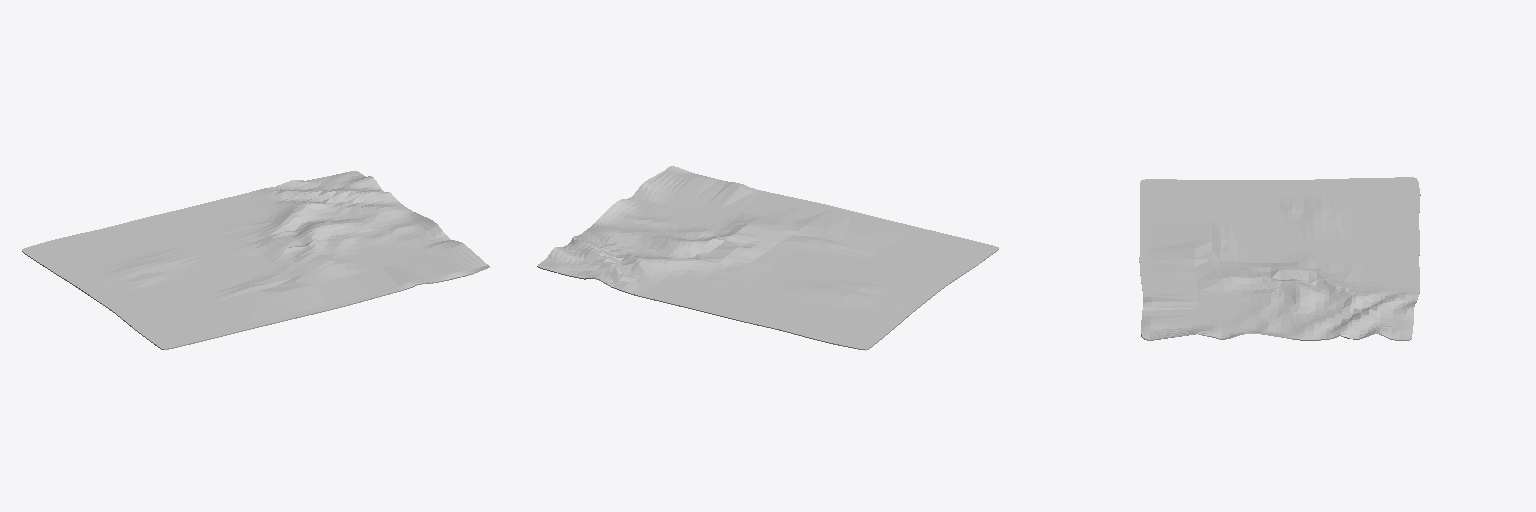
Rendered from carpet.obj.
3 renders of one model, left to right at view 1: azimuth 30°, elevation 25°; view 2: azimuth 150°, elevation 25°; view 3: azimuth 270°, elevation 25°, orthographic.
Visible parts, largest first — view 1: carpet_Plane.007; view 2: carpet_Plane.007; view 3: carpet_Plane.007.
Boxes of the visible parts, <box> form: carpet_Plane.007: <box>22,171,489,349</box>; carpet_Plane.007: <box>537,166,998,350</box>; carpet_Plane.007: <box>1139,177,1420,340</box>.
Bounding box in the file's own units: 8.97 × 0.2076 × 6.52.